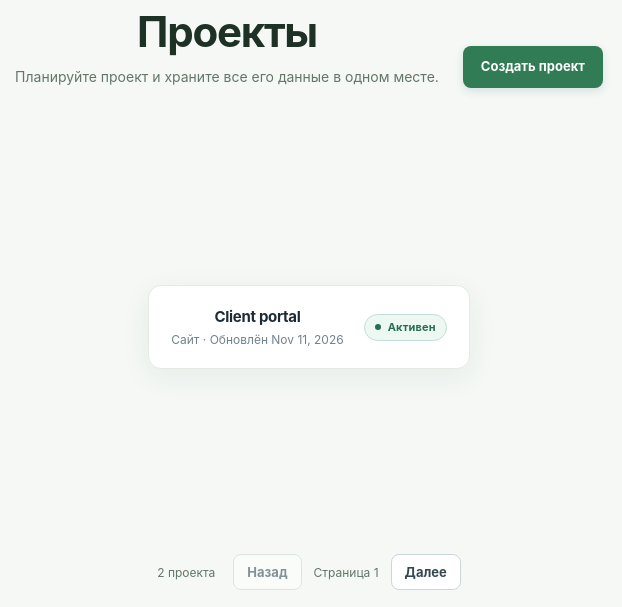
Scenario: project list paginates and requests the next page
Expected: the link "Client portal Сайт · Обновлён Nov 11, 2026" is shown, [171,307,344,347]
Expected: the text "2 проекта" is shown, [157,565,215,580]
Click the button "Далее" at [426, 572], box [391,554,461,590]
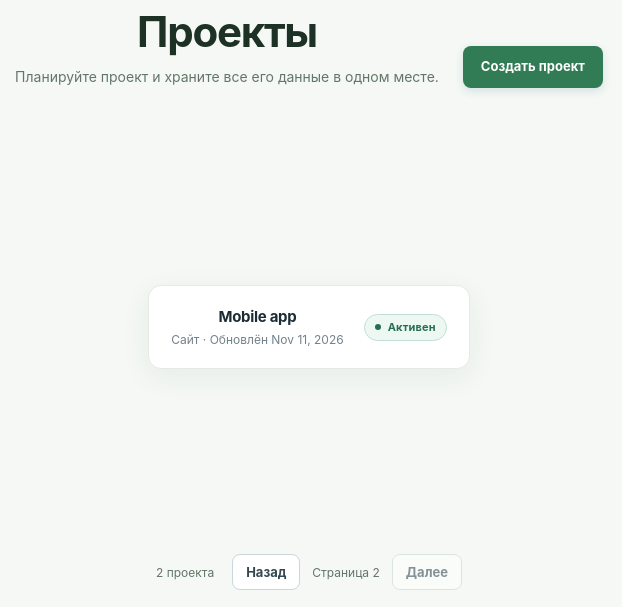
Result: the link "Mobile app Сайт · Обновлён Nov 11, 2026" is shown at [171,307,344,347]
Result: the text "Страница 2" is shown at [312,565,380,580]
